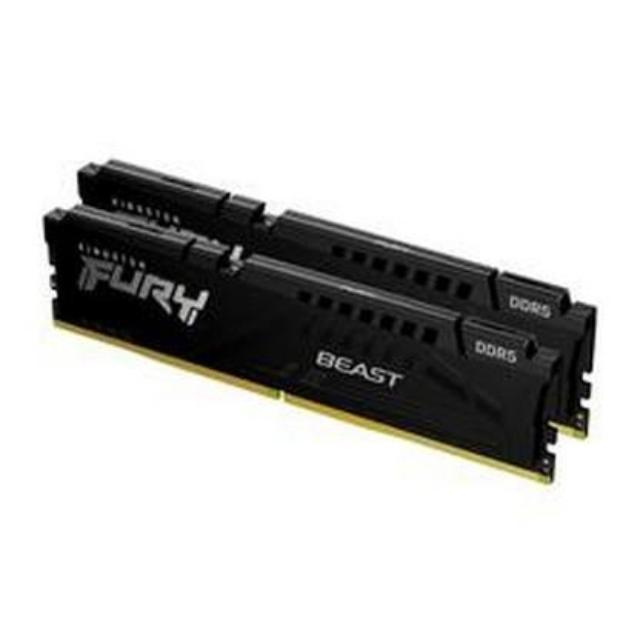RAM: (31, 147, 614, 496)
